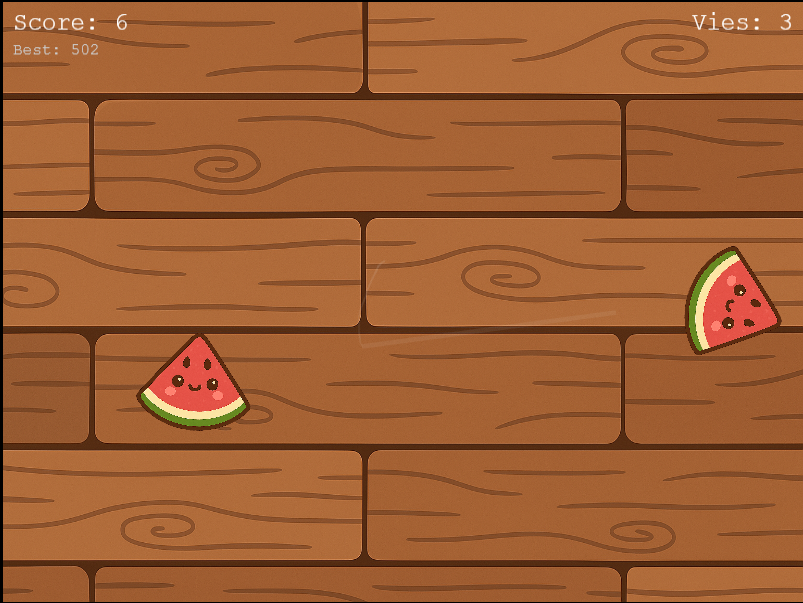fruit: (127, 324, 266, 435), (673, 239, 787, 360)
